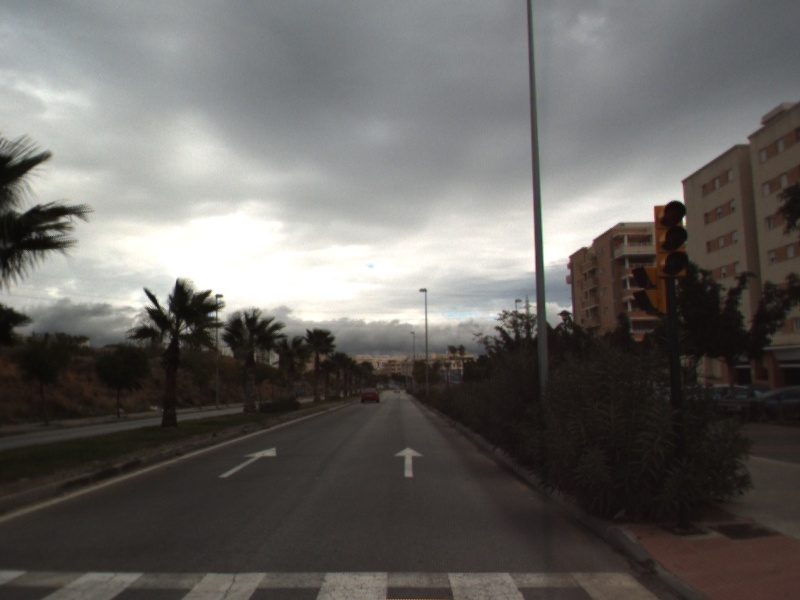STRAIGHT: (217, 445, 278, 479), (392, 445, 425, 479)
